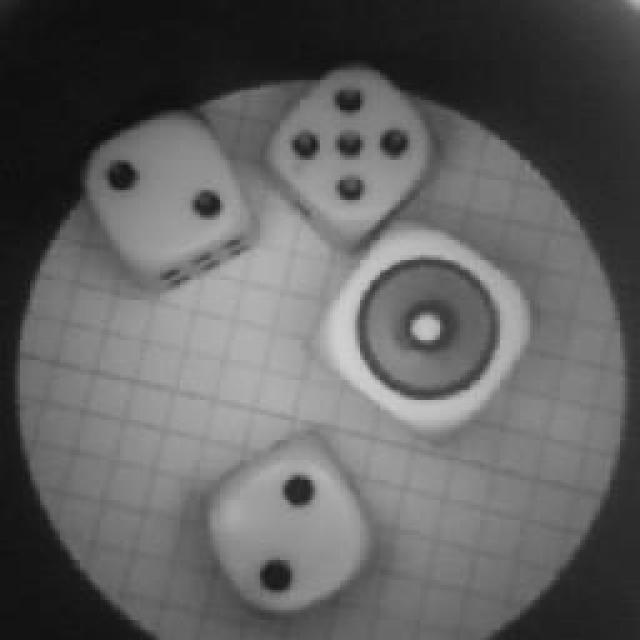dice_1: (302, 212, 550, 442)
dice_2: (200, 432, 385, 622), (80, 103, 255, 285)
dice_5: (268, 70, 440, 232)
